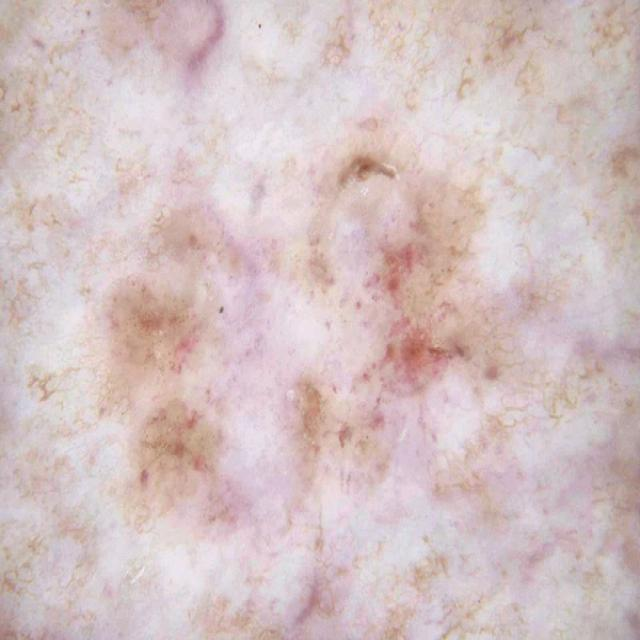Basal-Cell-Carcinoma-BCC-: (65, 68, 541, 578)
